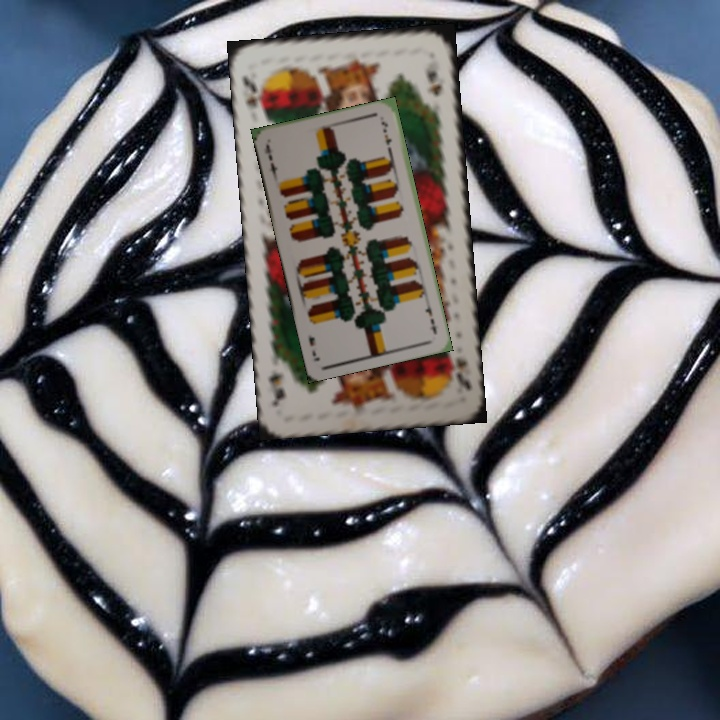E7: (261, 141, 280, 181), (421, 297, 439, 337)
SK: (238, 71, 267, 122), (445, 345, 474, 393)
